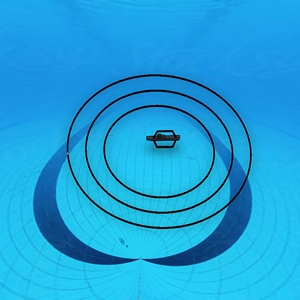circle: (67, 74, 253, 228)
submarine: (145, 128, 179, 148)
